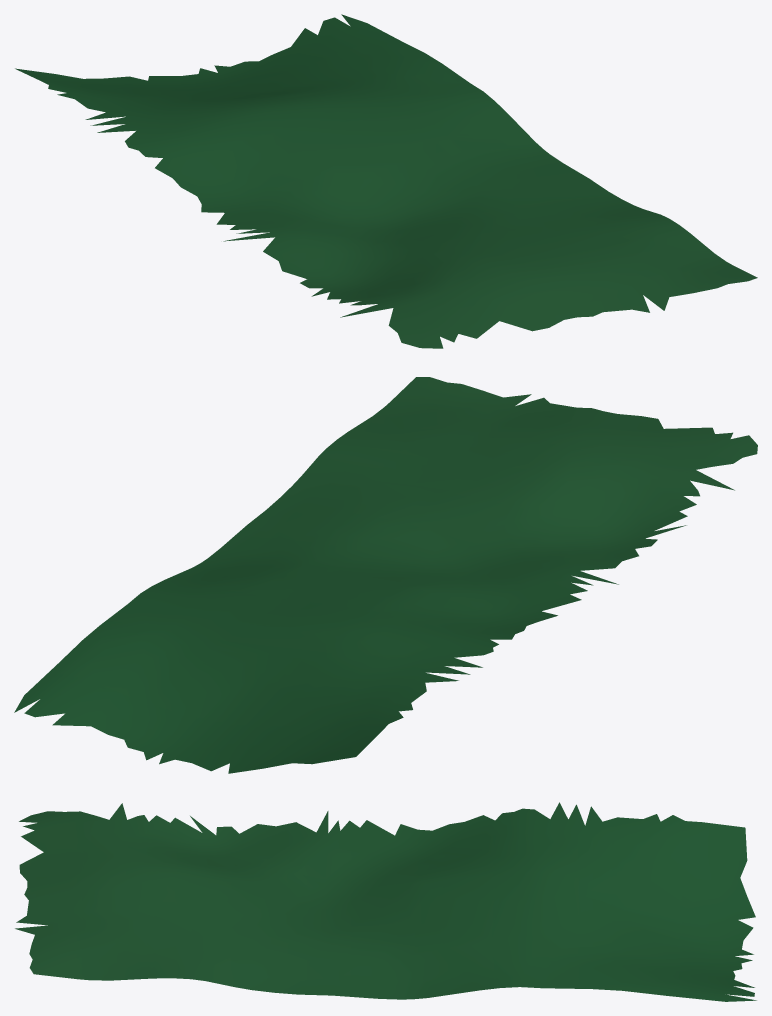
File: payo_land_xm5_y4.glb
3 renders of one model, top to bottom at view 1: azimuth 30°, elevation 25°; view 2: azimuth 150°, elevation 25°; view 3: azimuth 270°, elevation 25°, orthographic. The views are drawn at different scales.
Parts seen in each view (by area): view 1: payo_land_xm5_y4; view 2: payo_land_xm5_y4; view 3: payo_land_xm5_y4.
Part boxes in pixels (<box>): payo_land_xm5_y4: <box>15,14,757,348</box>; payo_land_xm5_y4: <box>14,377,757,773</box>; payo_land_xm5_y4: <box>15,802,756,1001</box>.
Size of the model in its own units: 135 by 24.62 by 266.
